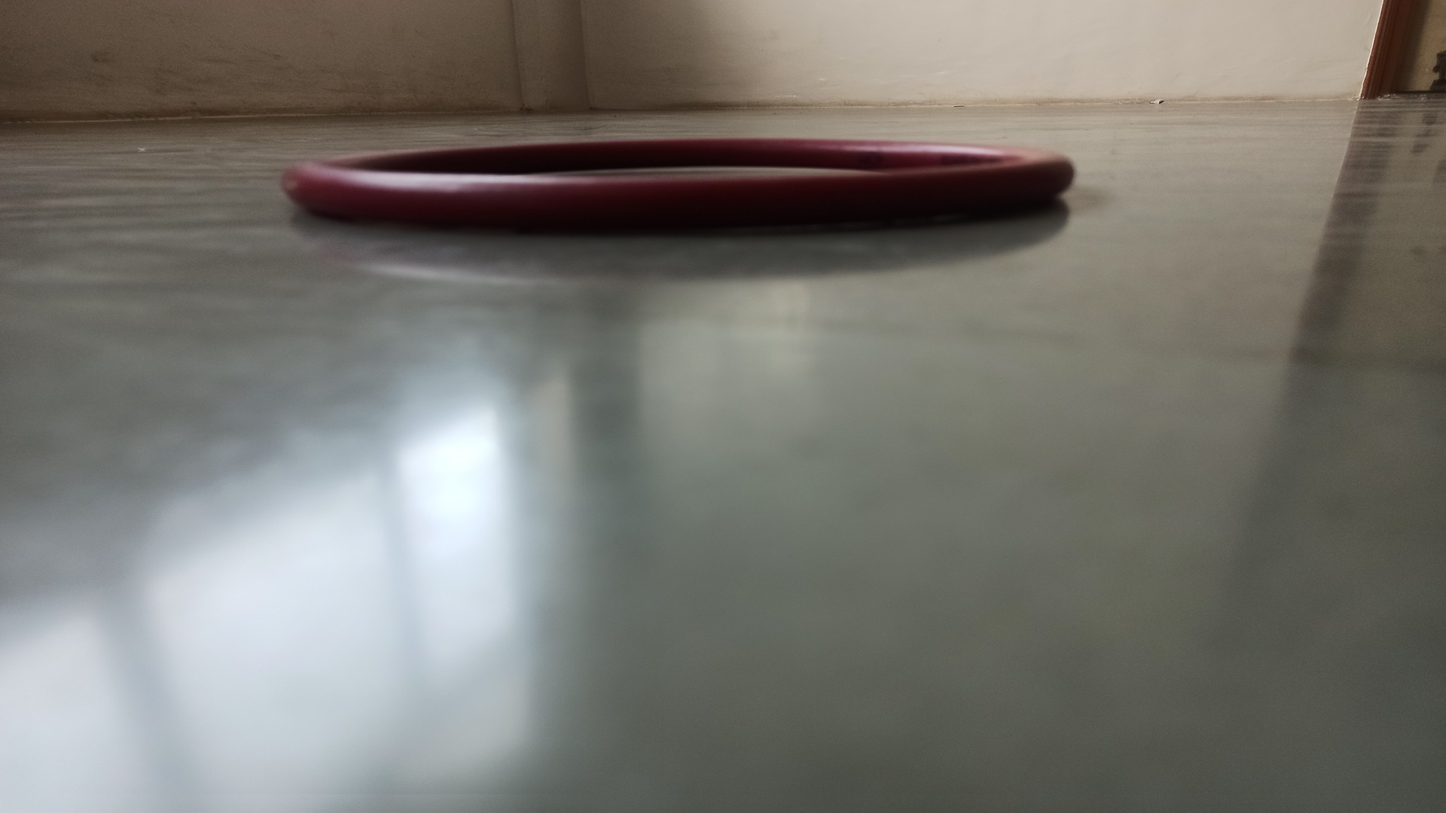Red ring: (285, 138, 1078, 230)
